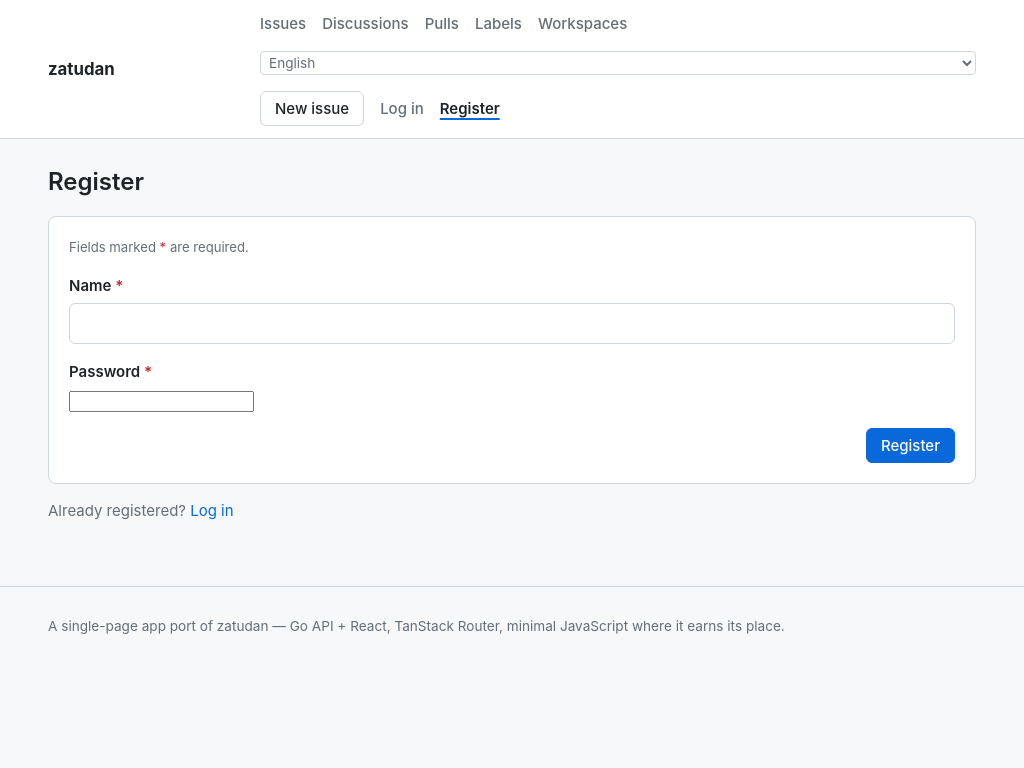
route: /register › registers, then lands on next already signed in
This screenshot has width=1024, height=768.
Type "alice" into the field labelled "Name *" at (512, 323), box [69,303,955,344]
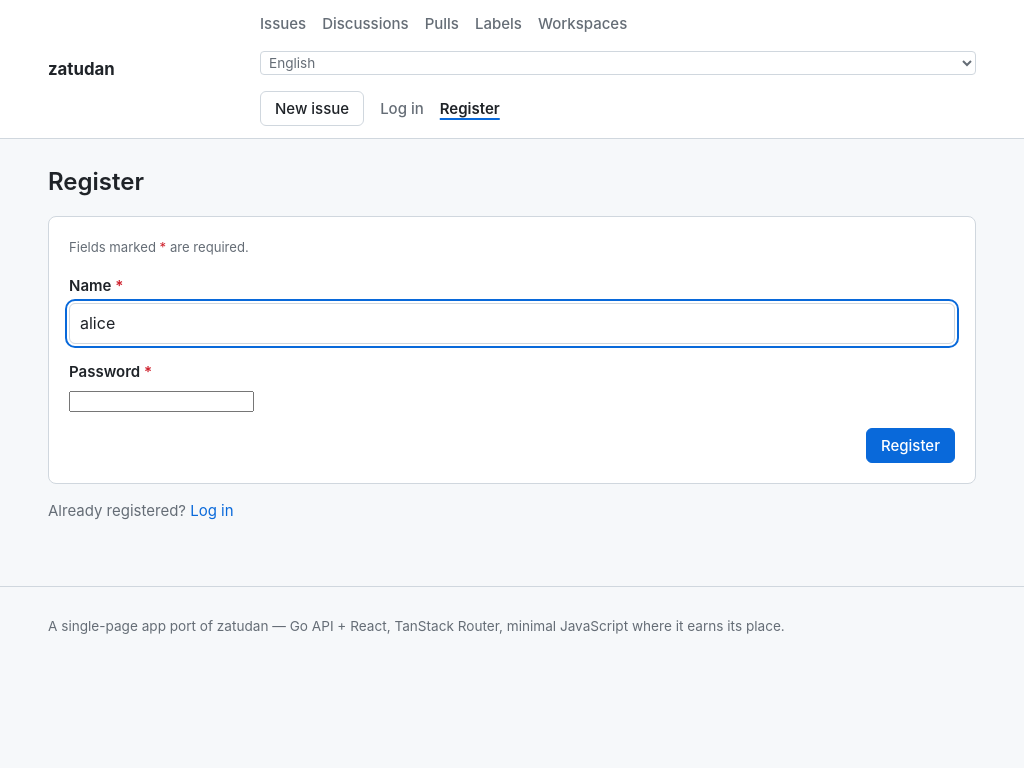
Type "password1" into the password field labelled "Password *" at (162, 402), box [69,391,254,412]
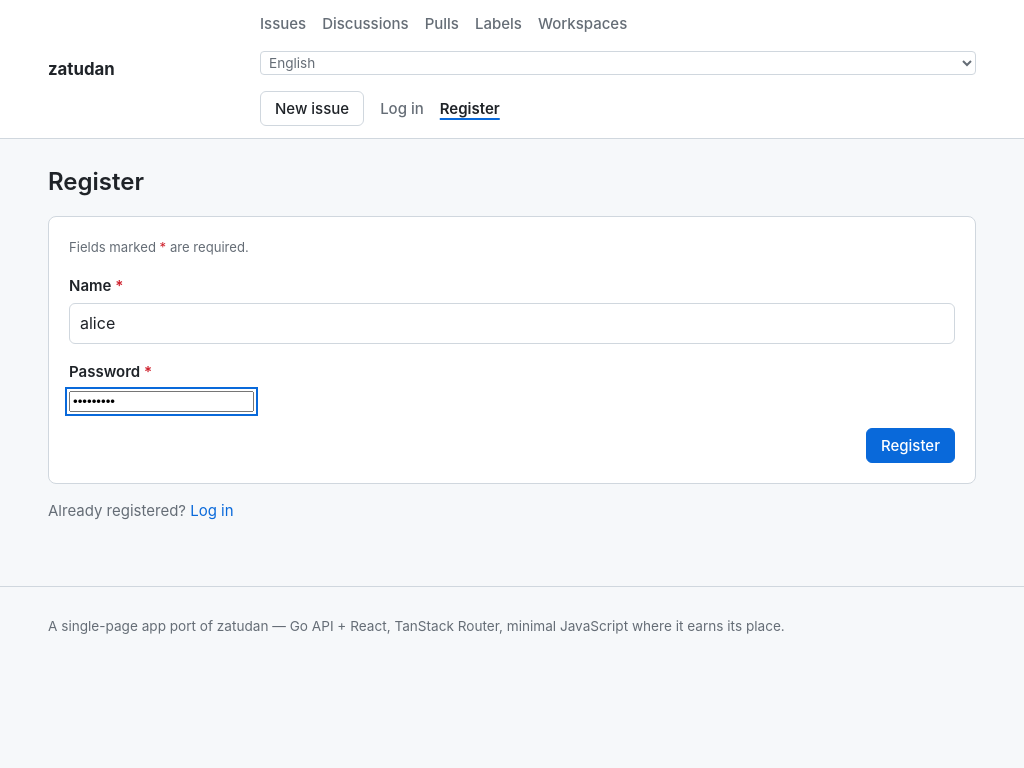
Click the button "Register" at (910, 446), box [866,428,955,463]
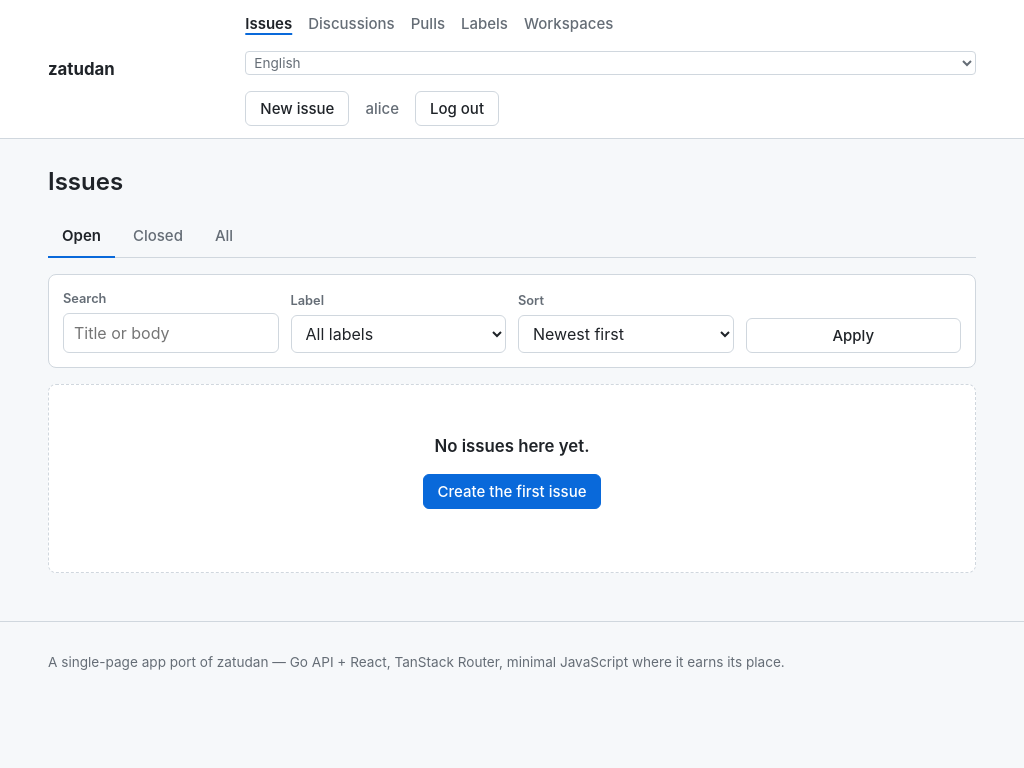
Check: the text "alice" is shown, box [365,97,399,120]
Check: the heading "Issues" is shown, box [48,163,123,200]
